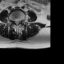CCS_normal: (16, 19, 18, 28)
LFS_severe_stenosis: (20, 19, 22, 23)
LLS_stenosis: (18, 19, 20, 24)
RFS_severe_stenosis: (12, 19, 14, 24)
RLS_stenosis: (14, 19, 16, 25)
